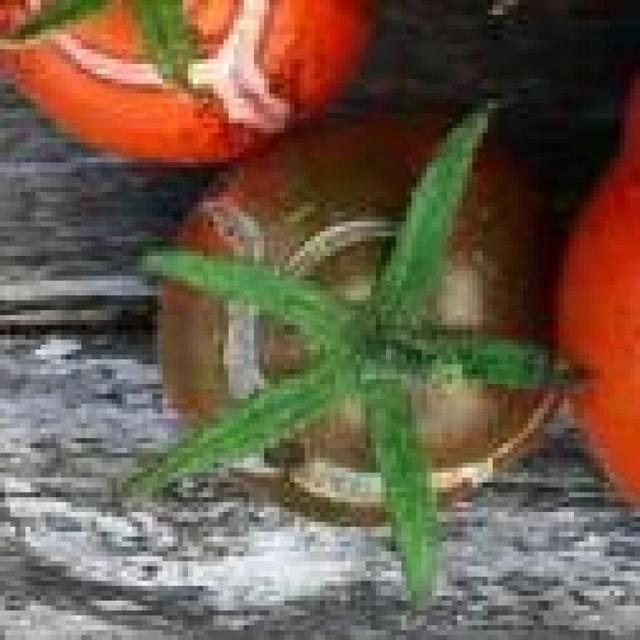Cracking Fruit: (105, 44, 236, 226)
